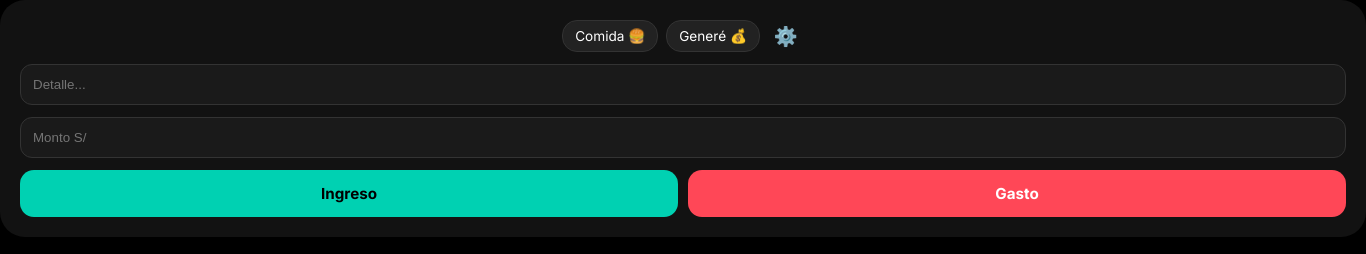
Test: TransactionForm › reusa una etiqueta al hacer clic
The image size is (1366, 254).
Click the button "Comida 🍔": (610, 36) [562, 20, 658, 52]
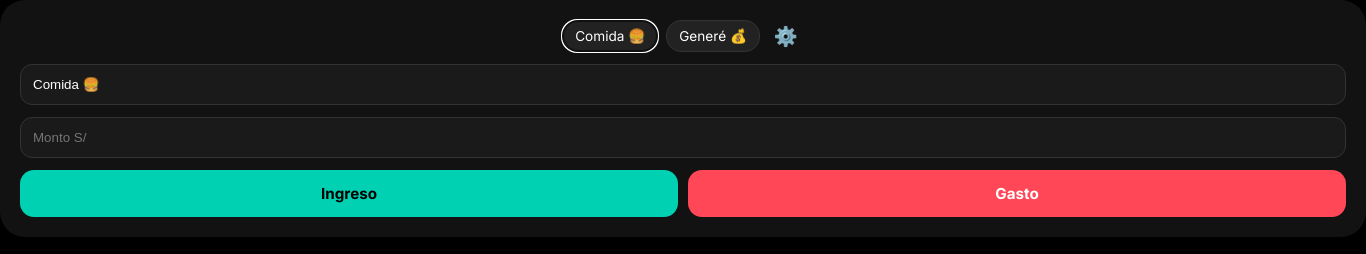
expect the field with placeholder "Detalle..." holds "Comida 🍔": met, box [20, 64, 1346, 105]
